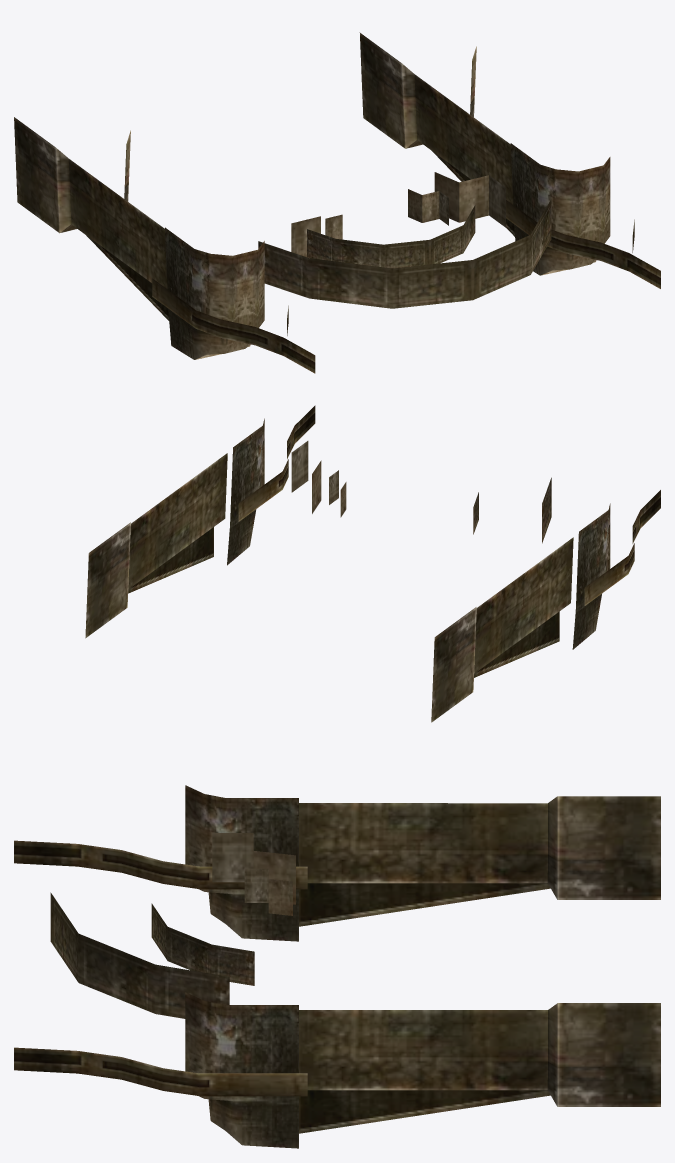
The picture shows the model from 3 angles, top to bottom: view 1: azimuth 30°, elevation 25°; view 2: azimuth 150°, elevation 25°; view 3: azimuth 270°, elevation 25°; orthographic projection. The views are drawn at different scales.
Parts seen in each view (by area): view 1: model_Object22; view 2: model_Object22; view 3: model_Object22.
Part boxes in pixels (bbox=[...]): model_Object22: bbox=[14, 32, 660, 373]; model_Object22: bbox=[85, 405, 660, 722]; model_Object22: bbox=[14, 785, 660, 1148].
Bounding box in the file's own units: 2.13 × 0.5801 × 2.25.
1 material, 1 textured.
